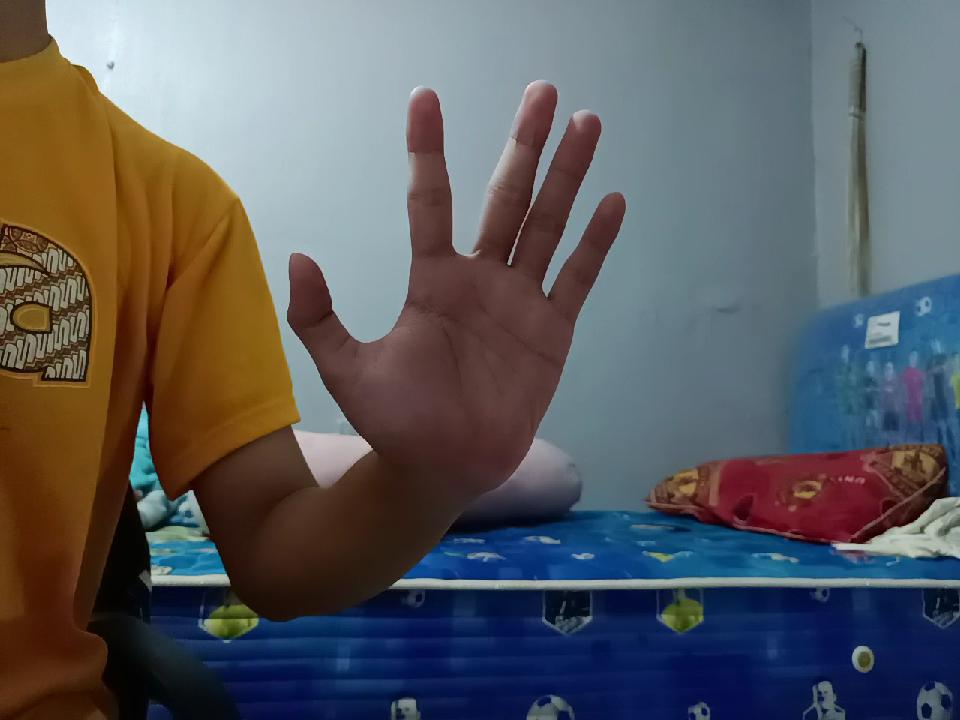paper: (284, 70, 622, 500)
